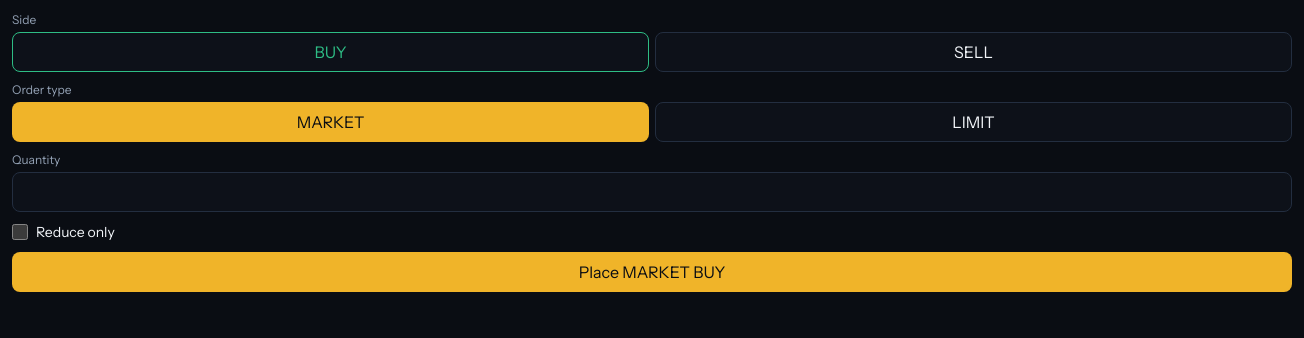
Test case: OrderForm › renders a filled market acknowledgement from the response
Type "0.001" into the field labelled "Quantity".
click(652, 192); type("0.001")  # box [12,172,1292,212]
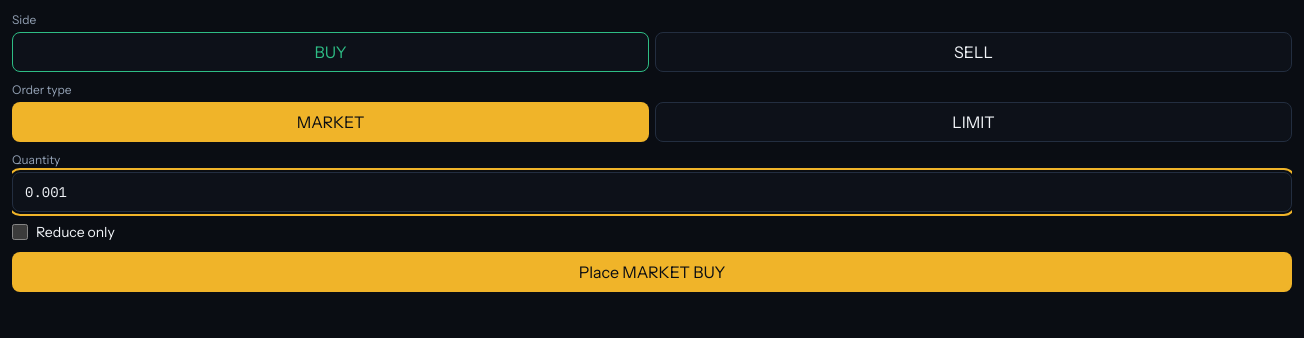
Click the button "Place MARKET BUY".
click(652, 272)  # box [12,252,1292,292]
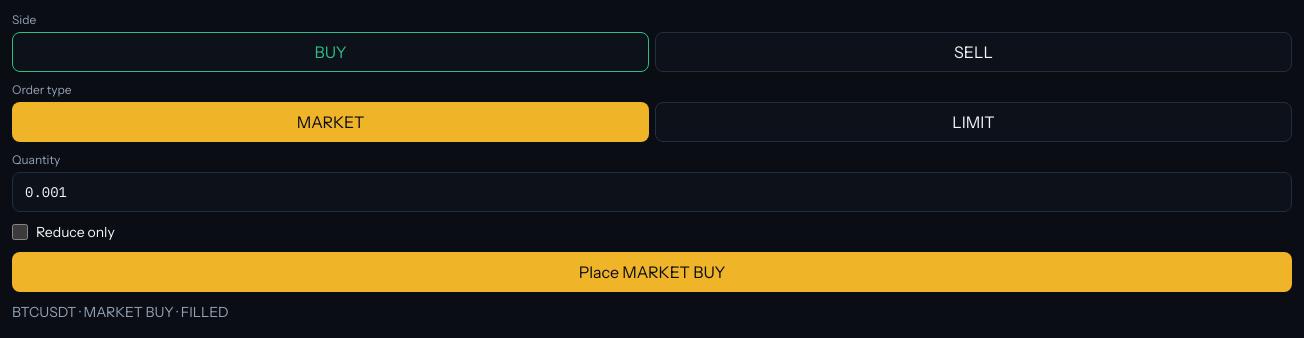
Check: the message reads "BTCUSDT · MARKET BUY · FILLED", box [12,303,229,321]
